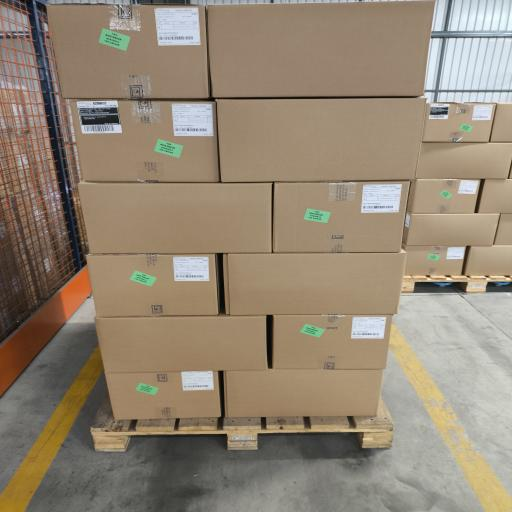pallet: (91, 396, 393, 451), (402, 276, 511, 293)
